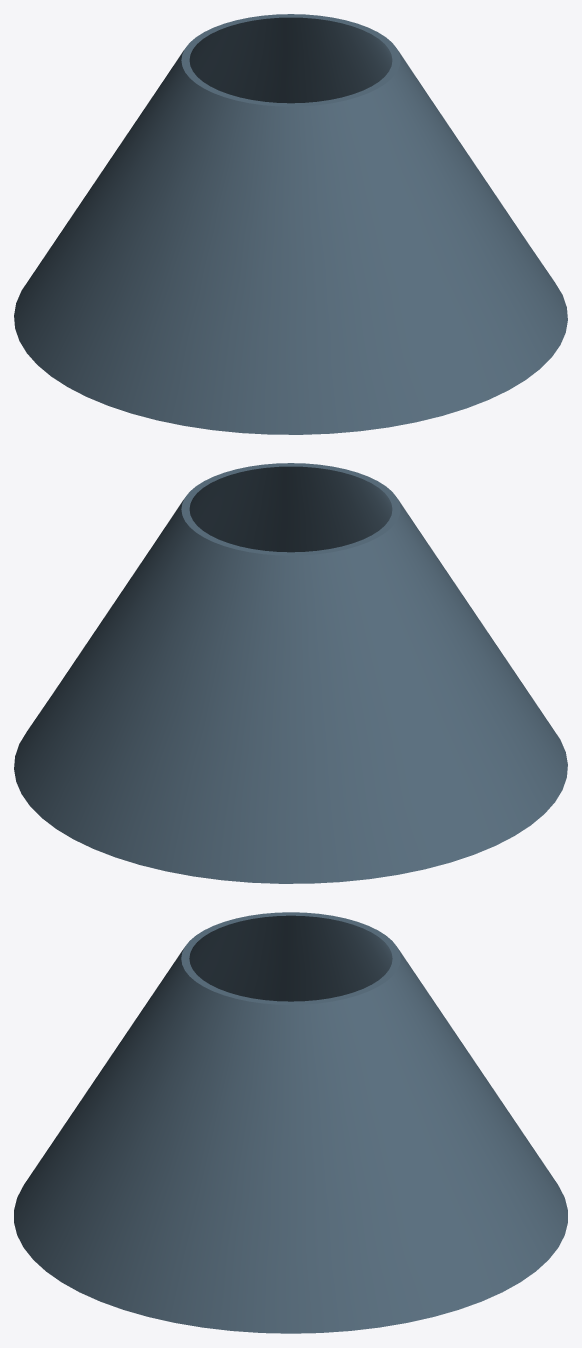
The model's file is perehod-273x7-108x4-L140.glb.
The picture shows the model from 3 angles, top to bottom: view 1: azimuth 30°, elevation 25°; view 2: azimuth 150°, elevation 25°; view 3: azimuth 270°, elevation 25°; orthographic projection.
Parts seen in each view (by area): view 1: Open CASCADE STEP translator 7.9 44; view 2: Open CASCADE STEP translator 7.9 44; view 3: Open CASCADE STEP translator 7.9 44.
Part boxes in pixels (box(x1,y1,x2,y2)): Open CASCADE STEP translator 7.9 44: box(14, 14, 567, 434); Open CASCADE STEP translator 7.9 44: box(14, 463, 567, 883); Open CASCADE STEP translator 7.9 44: box(14, 912, 567, 1333).
Bounding box in the file's own units: 273 × 140 × 273.
